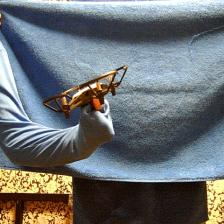drone: (38, 65, 130, 120)
